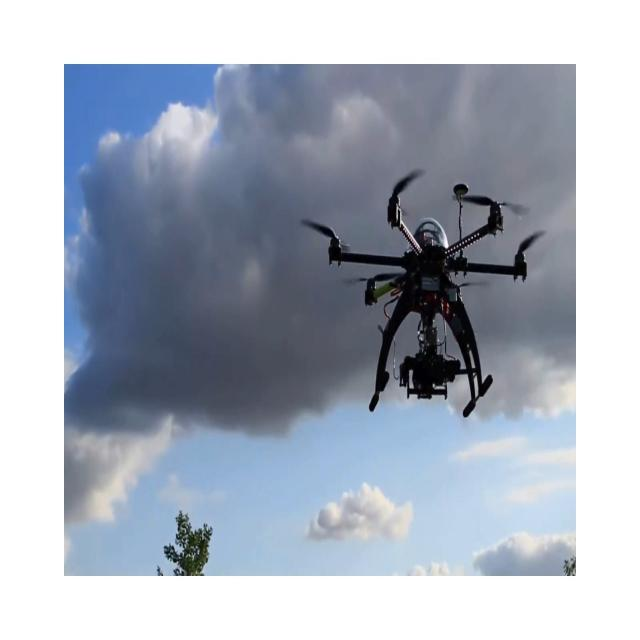drone: (299, 167, 546, 418)
